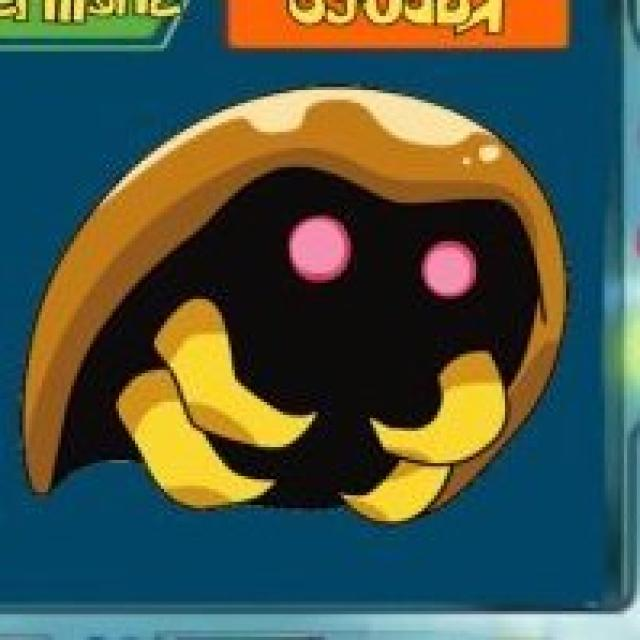Kabuto: (24, 86, 578, 511)
